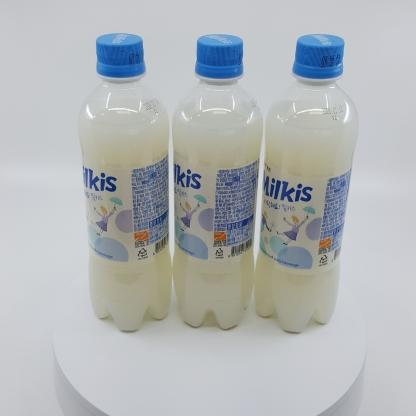-----500ML: (254, 34, 359, 332), (78, 33, 172, 331), (172, 34, 263, 329)
